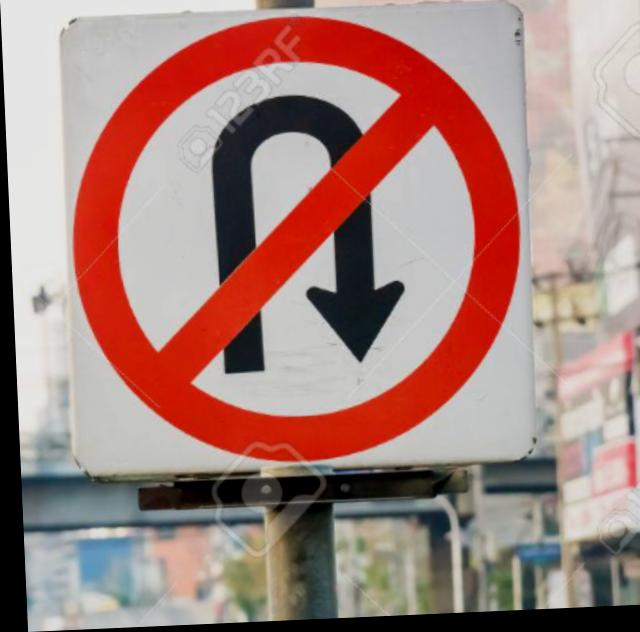not_u_turn_right: (66, 2, 529, 468)
